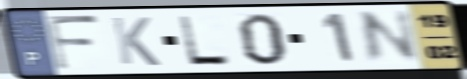0: (235, 11, 290, 67)
1: (319, 11, 357, 65)
F: (44, 13, 104, 72)
K: (108, 15, 164, 68)
L: (176, 13, 235, 67)
N: (356, 8, 422, 67)
